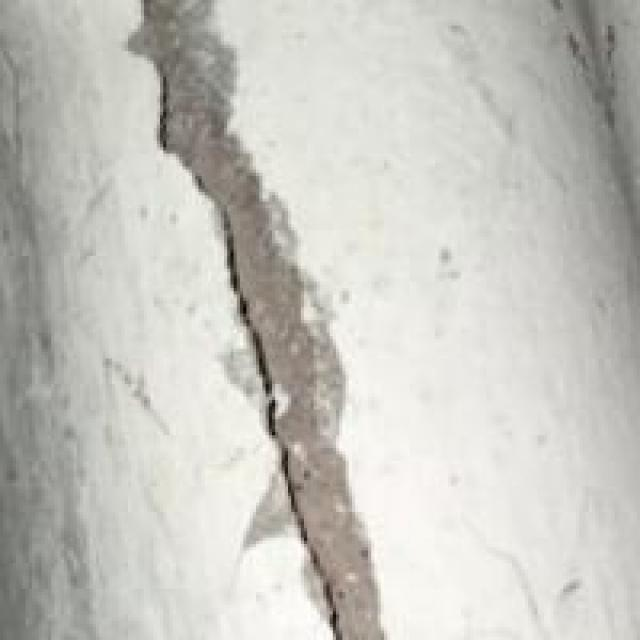Crack: (93, 16, 378, 637)
